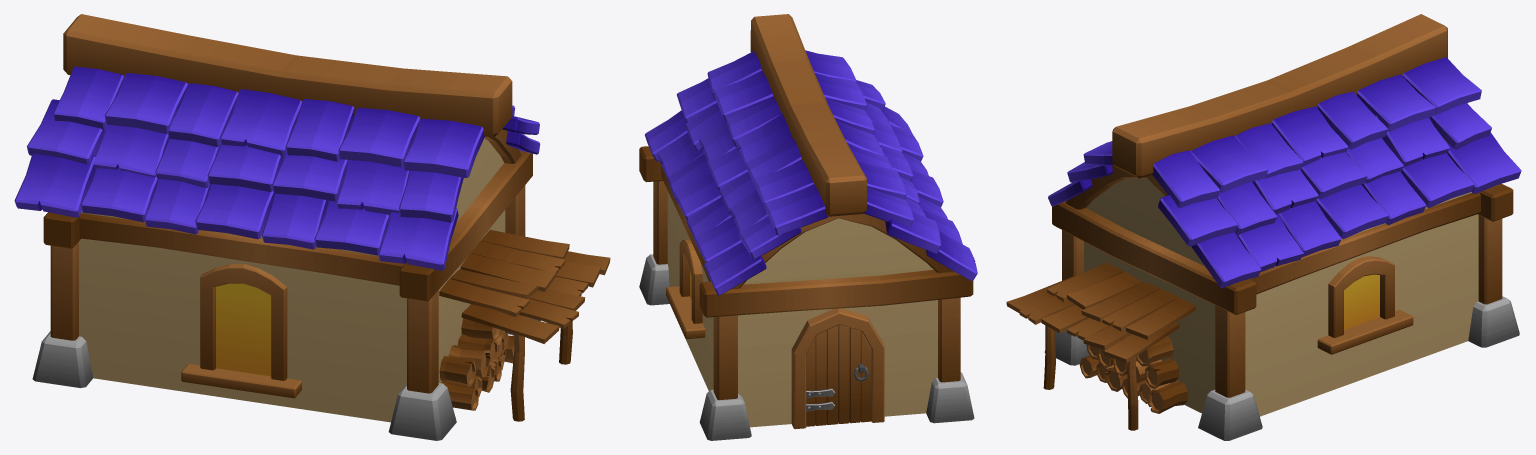
Rendered from House.glb.
3 views of the same model, side by side, from view 1: azimuth 30°, elevation 25°; view 2: azimuth 150°, elevation 25°; view 3: azimuth 270°, elevation 25° (orthographic). The views are drawn at different scales.
Visible parts, largest first — view 1: House_Material.001_0; view 2: House_Material.001_0; view 3: House_Material.001_0.
Part boxes in pixels (<box>): House_Material.001_0: <box>14,14,610,440</box>; House_Material.001_0: <box>639,14,977,440</box>; House_Material.001_0: <box>1006,14,1521,440</box>.
Bounding box in the file's own units: 11.47 × 6.94 × 12.1.
Materials: 1 (1 with a texture image).
